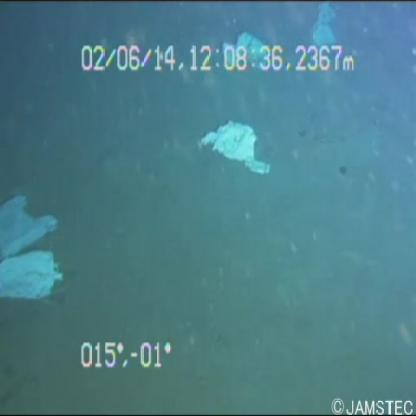Rác: (1, 175, 71, 328), (193, 110, 279, 189), (214, 26, 267, 72), (304, 5, 341, 57)
